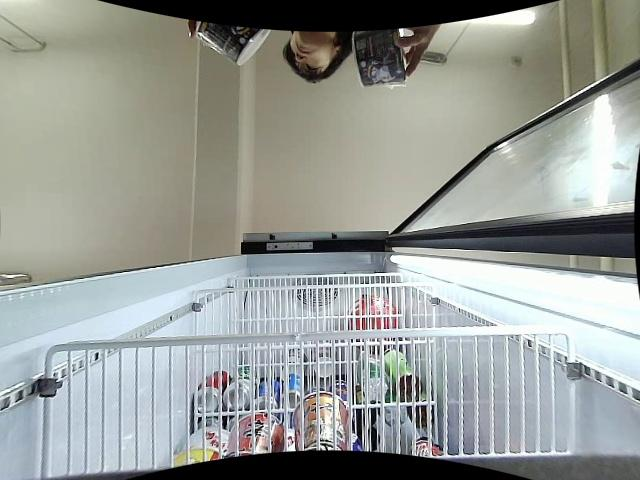00_hand: (393, 23, 443, 75), (184, 17, 204, 42)
07_buldak_L: (194, 19, 272, 65), (352, 26, 408, 87)
